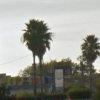Palm tree: (20, 15, 54, 94)
